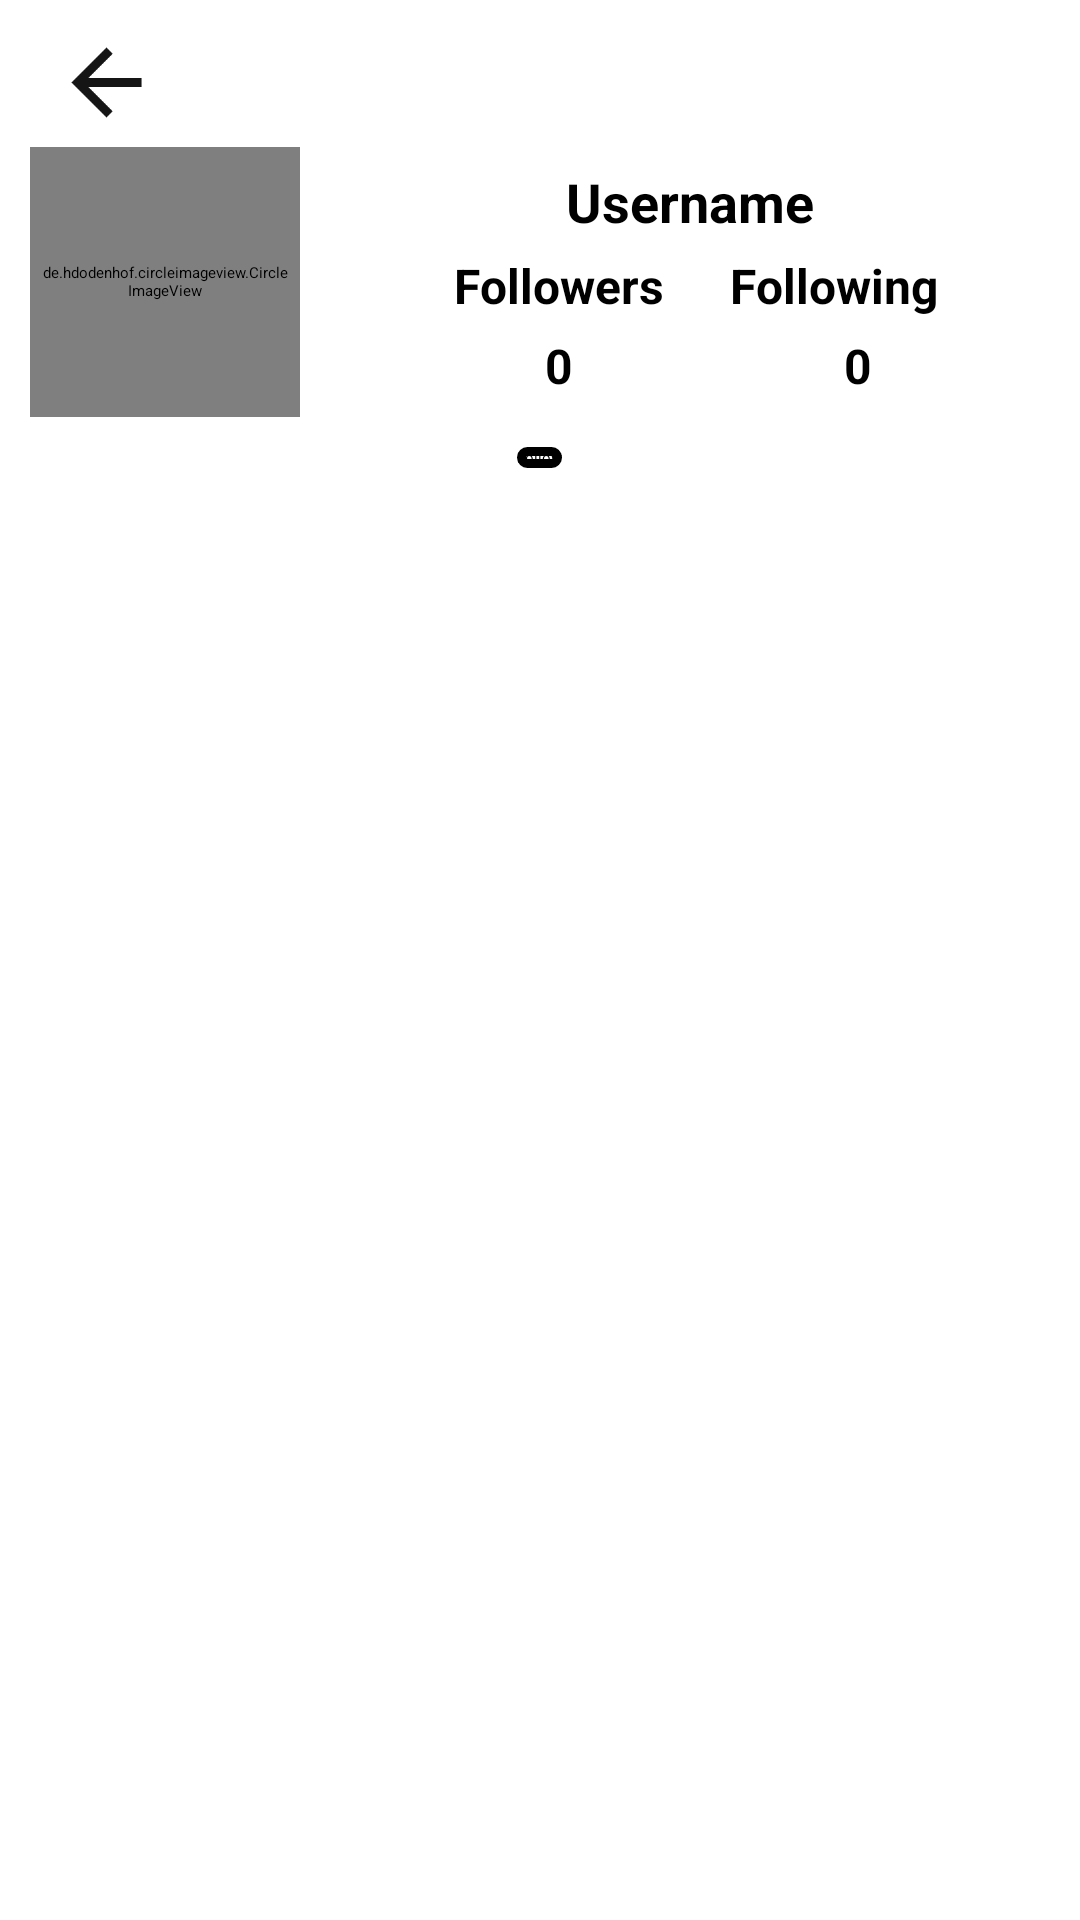

Locate icon controls on the screen. Image size 1080px x 1920px, boxes as bbox=(x1, y1, x2, y2).
arrow back: bbox=(71, 47, 142, 118)
